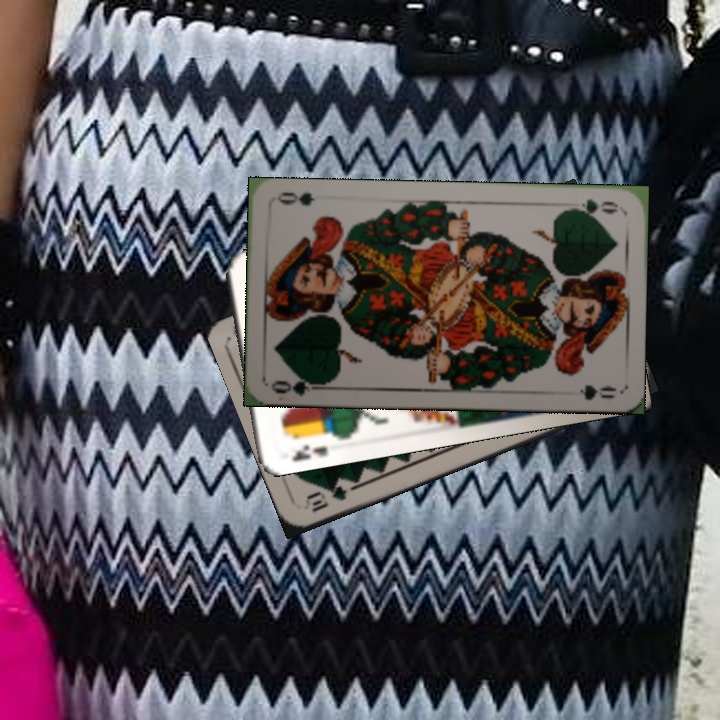EK: (287, 440, 330, 464)
G10: (303, 481, 350, 515)
GO: (269, 371, 328, 398), (563, 194, 621, 218)
